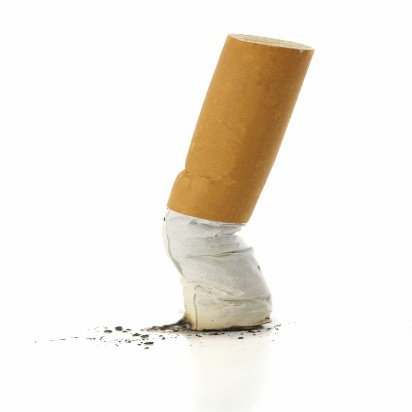cigarette: (155, 23, 315, 351)
